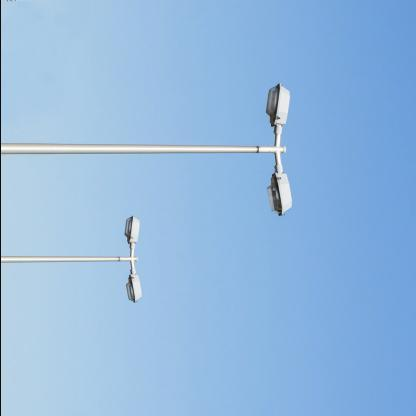off: (84, 186, 166, 316), (239, 60, 301, 215)
